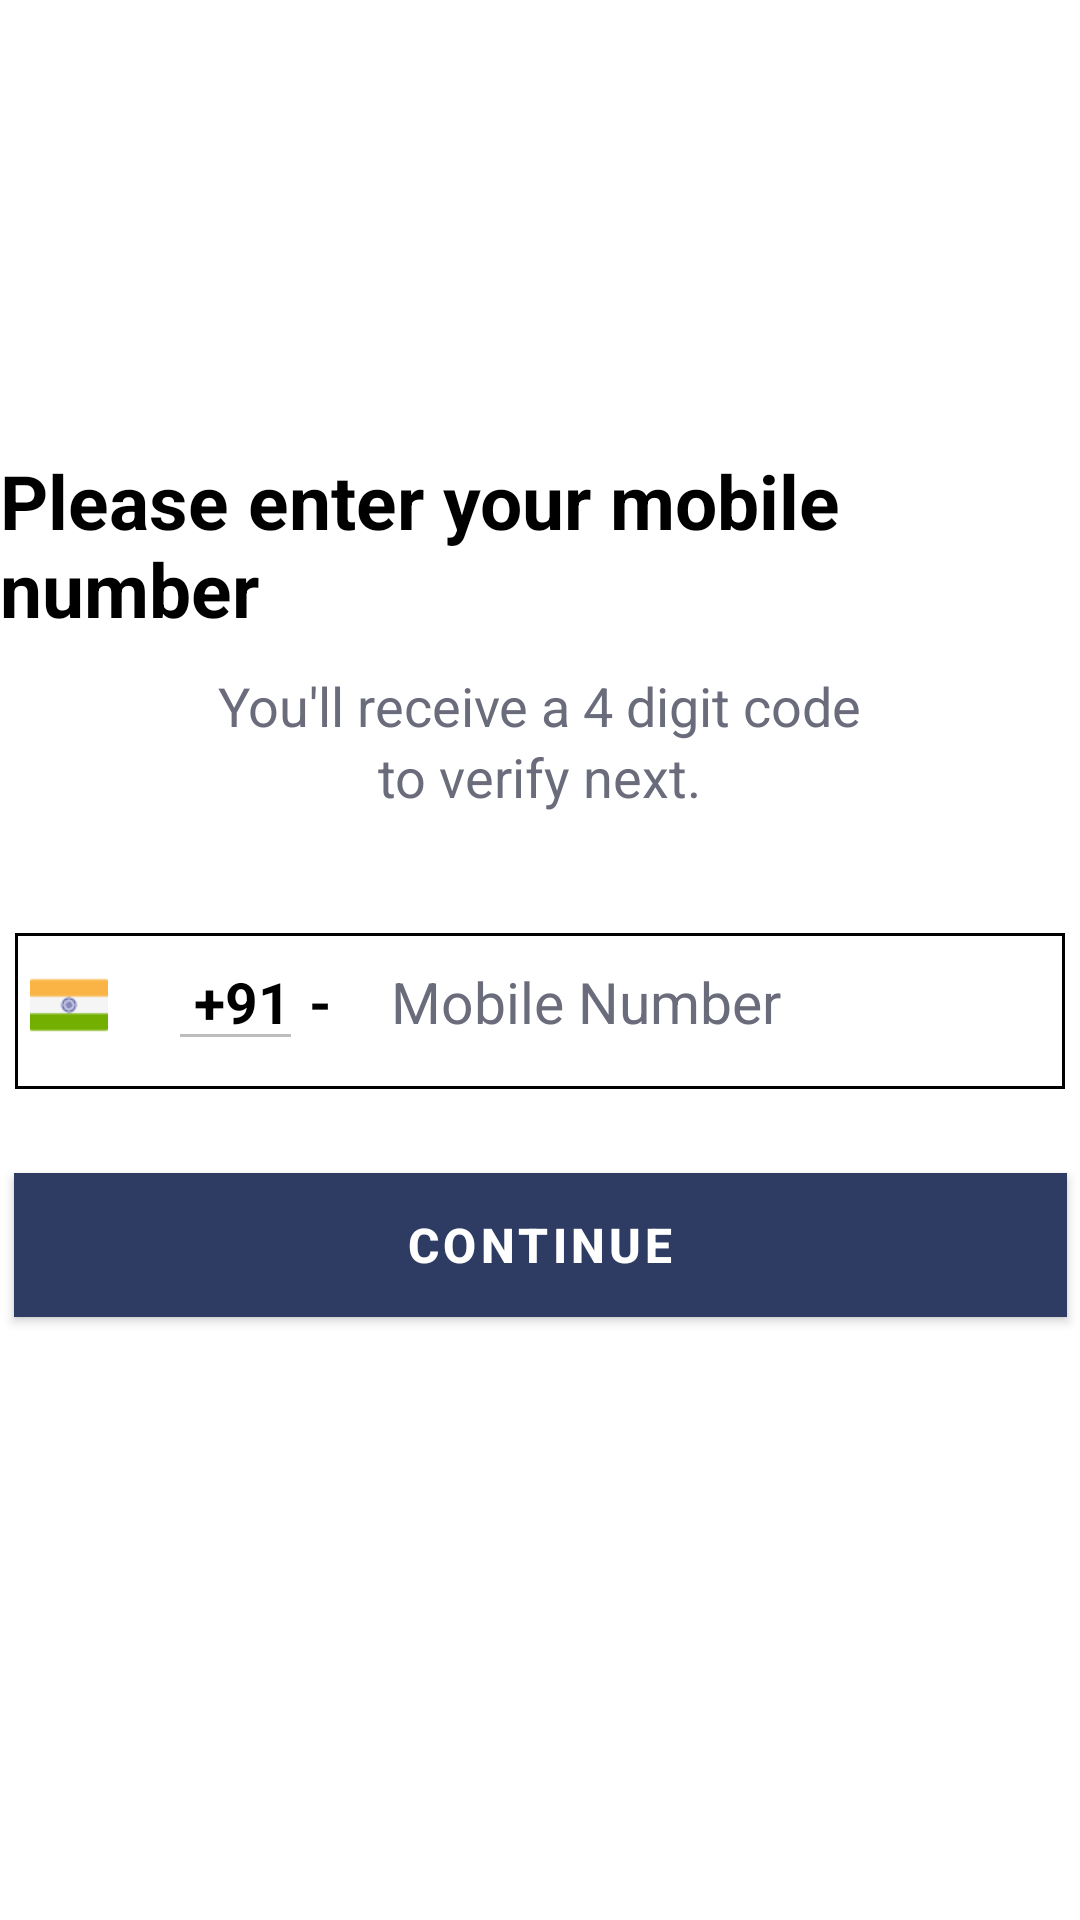

Icon bounding boxes for this 1080x1920 phone screenshot, format (x1, y1, x2, y2):
india: (30, 978, 108, 1032)
